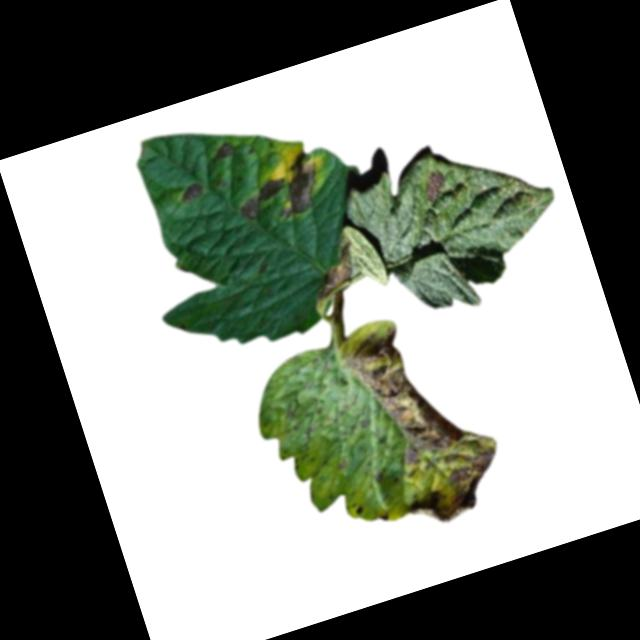Early_blight: (329, 301, 481, 474), (398, 443, 513, 533), (265, 147, 331, 220), (301, 241, 368, 299), (228, 174, 293, 222), (420, 166, 449, 202), (174, 179, 205, 205), (206, 136, 237, 162), (351, 503, 366, 519)
